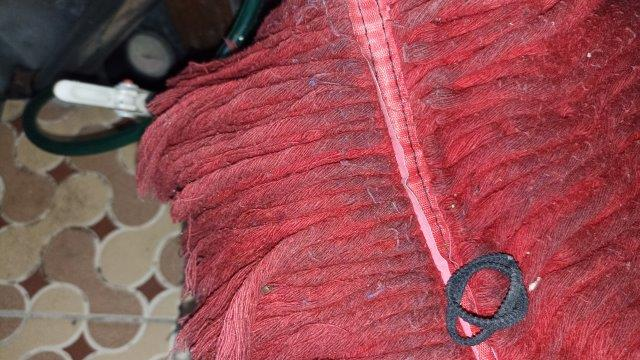karet: (446, 253, 527, 347)
